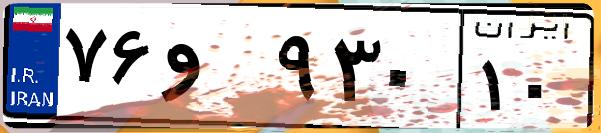0: (385, 28, 445, 110), (525, 38, 570, 115)
1: (475, 38, 525, 113)
3: (330, 28, 385, 110)
6: (110, 28, 158, 98)
7: (57, 26, 110, 100)
9: (270, 28, 330, 110)
و: (158, 20, 270, 120)
